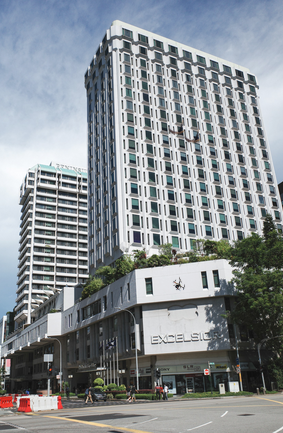drone_other: (172, 276, 187, 291)
